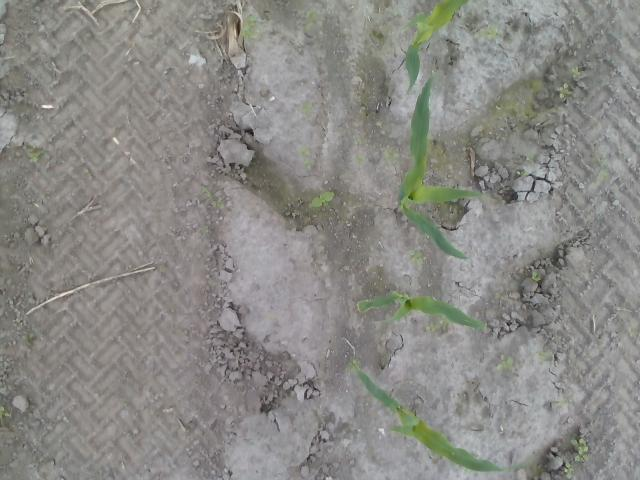Maize: (352, 366, 524, 474), (392, 74, 482, 258), (404, 0, 468, 92), (356, 288, 488, 330)
Weeds: (200, 184, 224, 210), (308, 189, 334, 210), (571, 439, 590, 462), (302, 9, 320, 33), (244, 14, 258, 40), (382, 148, 403, 164), (297, 148, 313, 169), (476, 25, 497, 40), (408, 248, 424, 264), (425, 320, 448, 331), (26, 144, 40, 162), (558, 82, 573, 98), (563, 462, 575, 480), (496, 358, 514, 370), (570, 65, 582, 79), (354, 154, 366, 166), (0, 406, 10, 417), (532, 270, 542, 281), (352, 359, 360, 368), (520, 170, 528, 176)
